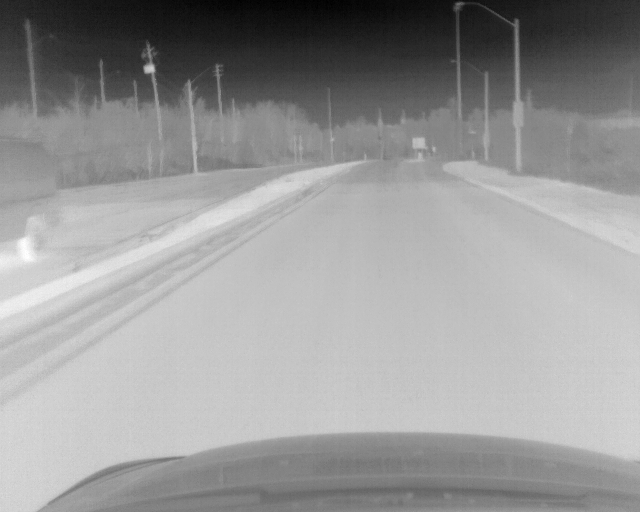car: (1, 134, 63, 262)
